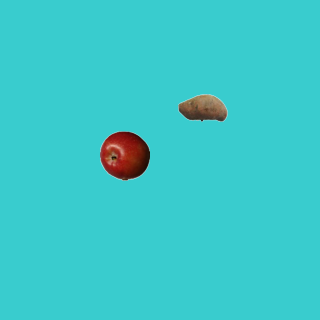Apple Braeburn: (99, 130, 149, 180)
Potato Sweet: (177, 82, 227, 132)
